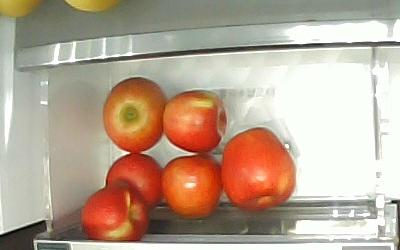apple: (219, 125, 296, 211), (101, 75, 168, 153), (161, 88, 228, 153), (78, 183, 151, 242), (159, 153, 224, 219), (104, 153, 163, 209)
